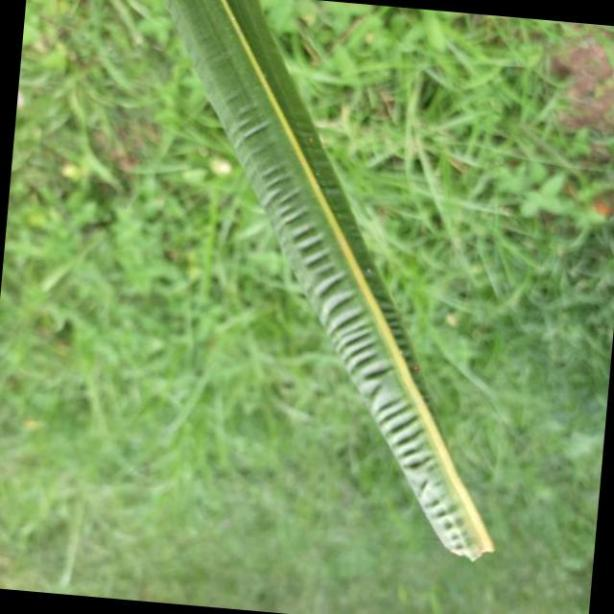Boron: (160, 0, 502, 564)
